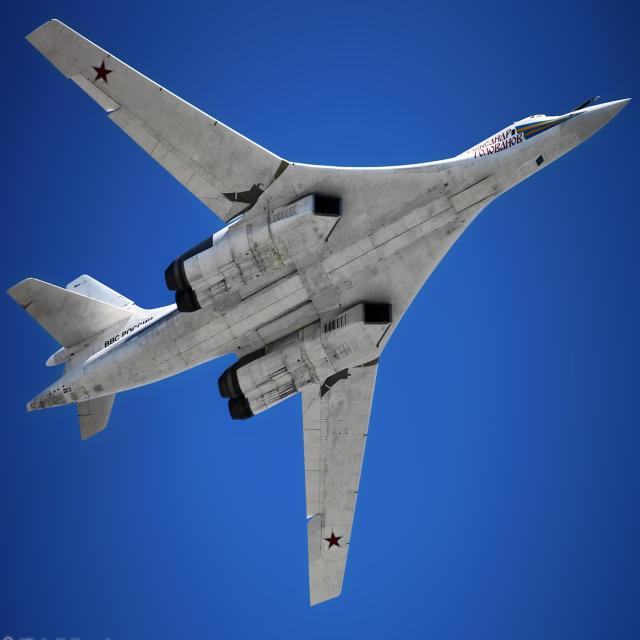Tu160: (3, 8, 640, 628)
